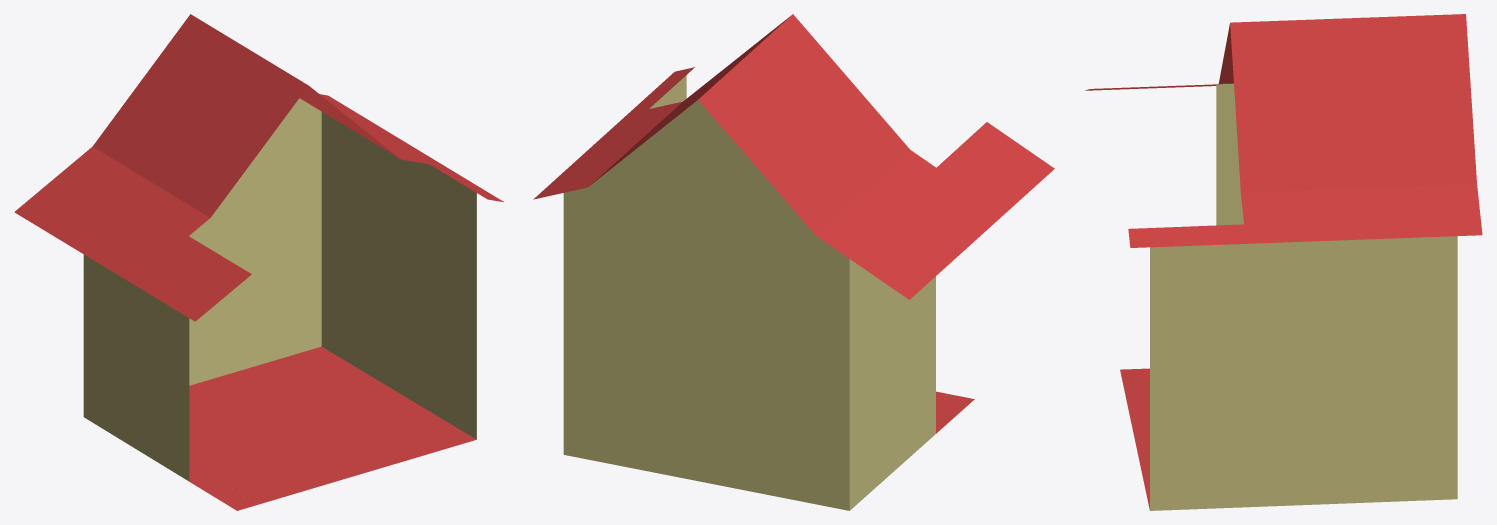
The picture shows the model from 3 angles, left to right: view 1: azimuth 30°, elevation 25°; view 2: azimuth 150°, elevation 25°; view 3: azimuth 270°, elevation 25°; orthographic projection. The views are drawn at different scales.
Bounding box in the file's own units: 15.4 × 13.13 × 15.03.
